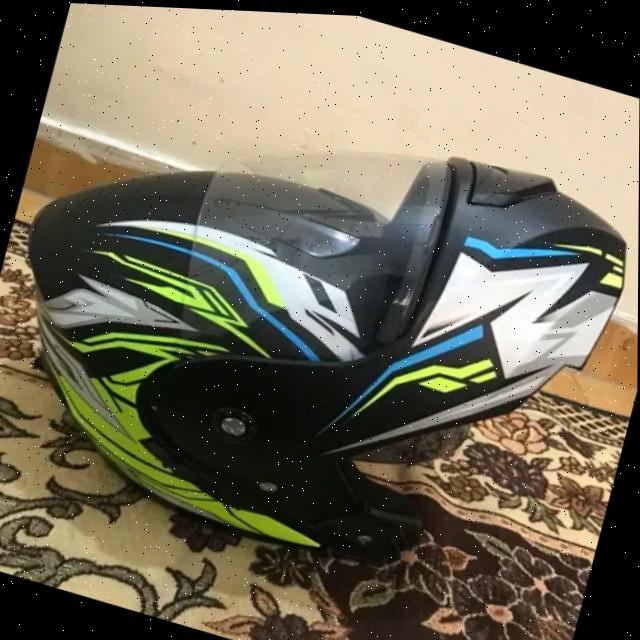Helmet: (0, 16, 636, 620)
